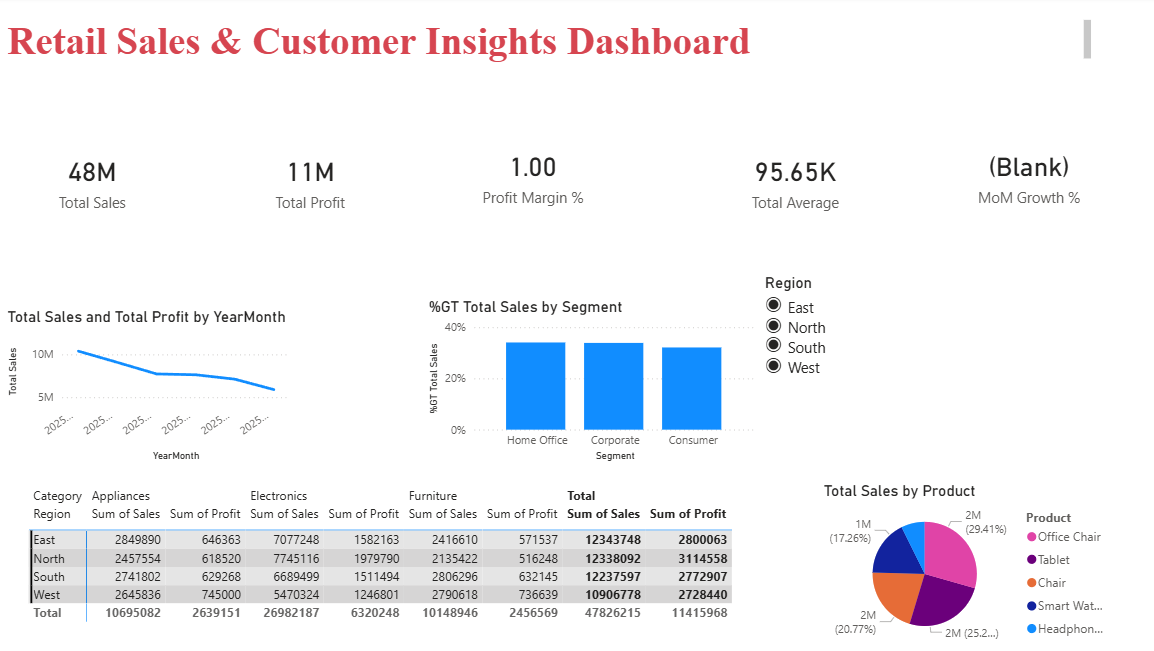

The page's visual inventory and layout, read from the dashboard file:
{"tool":"powerbi","page":{"name":"Page 1","canvas":[1280,720],"ordinal":0},"visuals":[{"type":"card","fields":{"Values":["DateTable.Total Sales"]},"box":[16.5,115.3,196.2,174.3],"z":0},{"type":"card","fields":{"Values":["DateTable.Total Profit"]},"box":[241.5,115.3,225,174.3],"z":2},{"type":"card","fields":{"Values":["DateTable.Profit Margin %"]},"box":[485.8,115.3,225,163.3],"z":3},{"type":"card","fields":{"Values":["DateTable.Total Average"]},"box":[773.9,115.3,225,174.3],"z":4},{"type":"card","fields":{"Values":["DateTable.MoM Growth %"]},"box":[1045.6,115.3,194.9,163.3],"z":5},{"type":"lineChart","fields":{"Y":["DateTable.Total Sales"],"Category":["DateTable.YearMonth"]},"box":[16.5,341.7,319.7,174.3],"z":6},{"type":"clusteredColumnChart","fields":{"Y":["Divide(DateTable.Total Sales, ScopedEval(DateTable.Total Sales, []))"],"Category":["SalesData.Segment"]},"box":[478.9,330.7,369.1,185.2],"z":8},{"type":"pivotTable","fields":{"Values":["Sum(SalesData.Sales)","Sum(SalesData.Profit)"],"Rows":["SalesData.Region"],"Columns":["SalesData.Category"]},"box":[39.8,532.4,808.2,188],"z":9},{"type":"pieChart","fields":{"Category":["SalesData.Product"],"Y":["DateTable.Total Sales"]},"box":[912.5,532.4,328,185.2],"z":10},{"type":"listSlicer","fields":{"Values":["SalesData.Region"]},"box":[848,304.6,367.8,211.3],"z":11},{"type":"textbox","box":[16.5,20.6,1199.3,63.1],"z":12}]}

Visuals, with their boxes in screenshot pixels (x1, y1, x2, y2), scaled from the page's 1280x720 canvas onto the 1154x651 screenshot:
card - DateTable.Total Sales: [15,104,192,262]
card - DateTable.Total Profit: [218,104,421,262]
card - DateTable.Profit Margin %: [438,104,641,252]
card - DateTable.Total Average: [698,104,901,262]
card - DateTable.MoM Growth %: [943,104,1118,252]
lineChart - DateTable.Total Sales x DateTable.YearMonth: [15,309,303,467]
clusteredColumnChart - Divide(DateTable.Total Sales, ScopedEval(DateTable.Total Sales, [])) x SalesData.Segment: [432,299,765,466]
pivotTable - Sum(SalesData.Sales) x Sum(SalesData.Profit): [36,481,765,650]
pieChart - SalesData.Product x DateTable.Total Sales: [823,481,1118,649]
listSlicer - SalesData.Region: [765,275,1096,466]
textbox: [15,19,1096,76]
